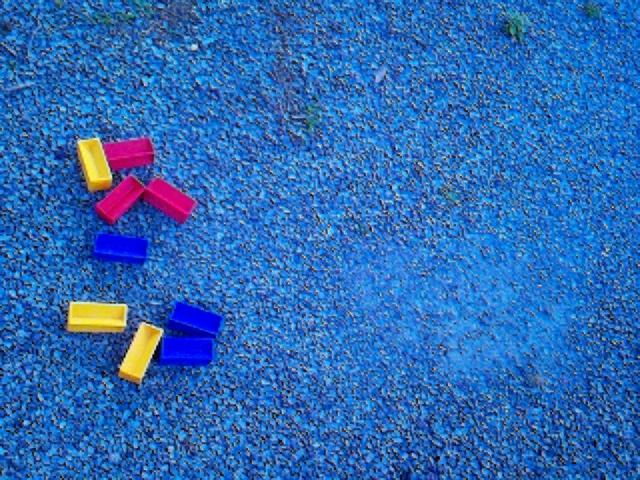blue: (166, 301, 224, 337), (93, 232, 149, 266), (159, 336, 214, 367)
red: (142, 177, 197, 224), (95, 175, 145, 225), (103, 137, 155, 171)
yellow: (118, 322, 164, 385), (66, 301, 129, 334), (77, 137, 113, 193)
